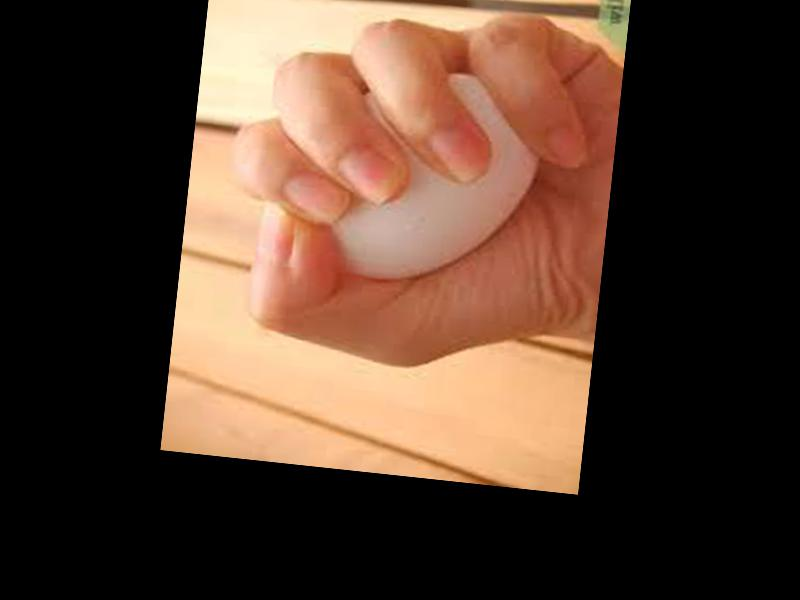Eggs: (304, 55, 546, 294)
